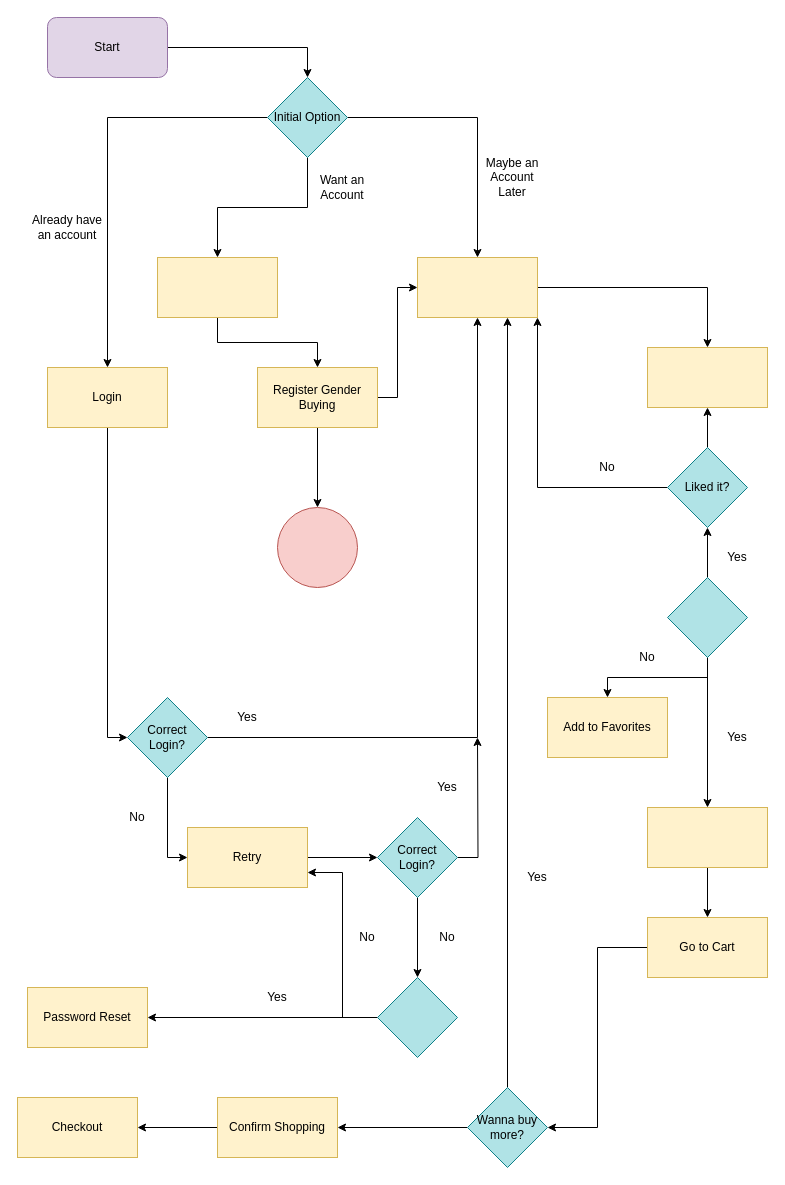
Image size: 785x1185. Some labels were removed from this diagram. Each missing label, with the centre of its shape:
"Add to Cart" belongs at point (707, 837).
"Register" belongs at point (217, 287).
"See Product" belongs at point (707, 377).
"Shop Home" belongs at point (477, 287).
"Verify Email" belongs at point (317, 547).
"Wanna buy now?" belongs at point (707, 617).
"Wrong 3?" belongs at point (417, 1017).
